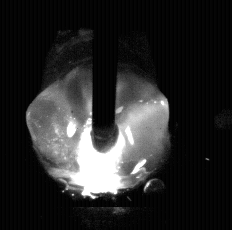arame: (93, 0, 116, 153)
poca: (25, 0, 169, 230)
